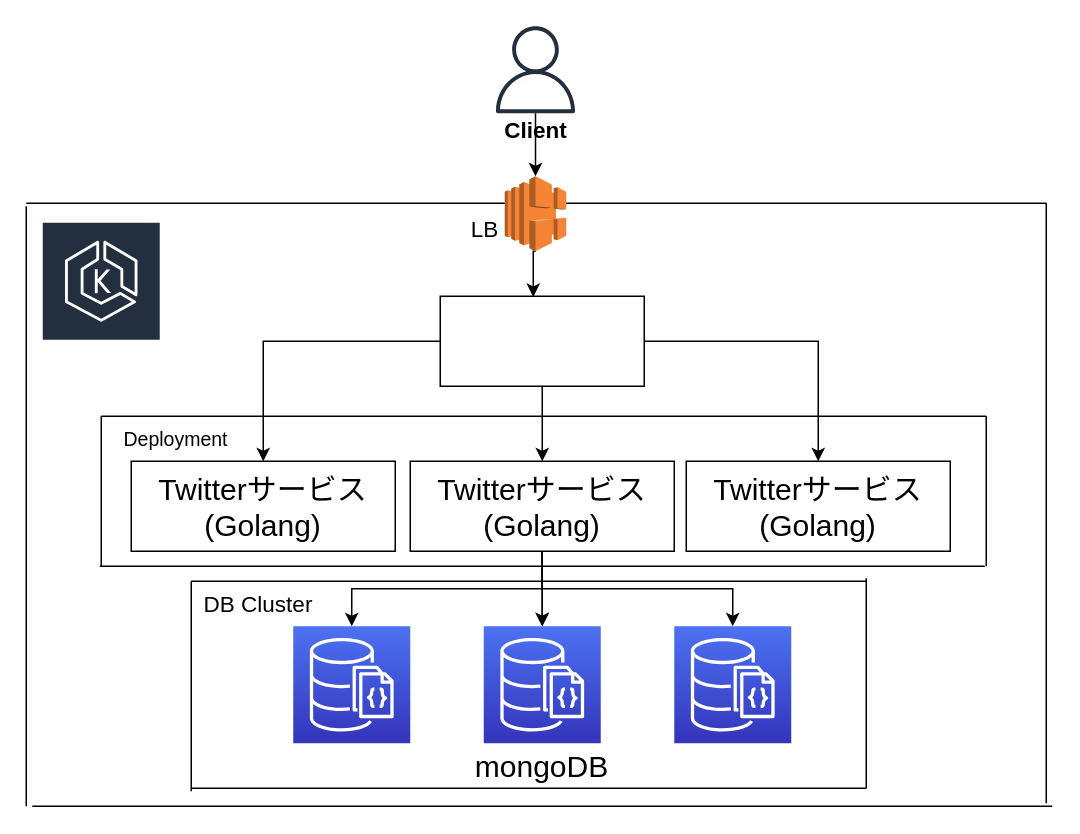
Image size: 1080x834. Some labels were removed from this diagram. The shapes that lost their labels are listed below. From the top down, each one's centre as x and y in pixels, then its label:
the point at 100,295: Amazon EKS
the point at 541,340: UIサービス(React)
